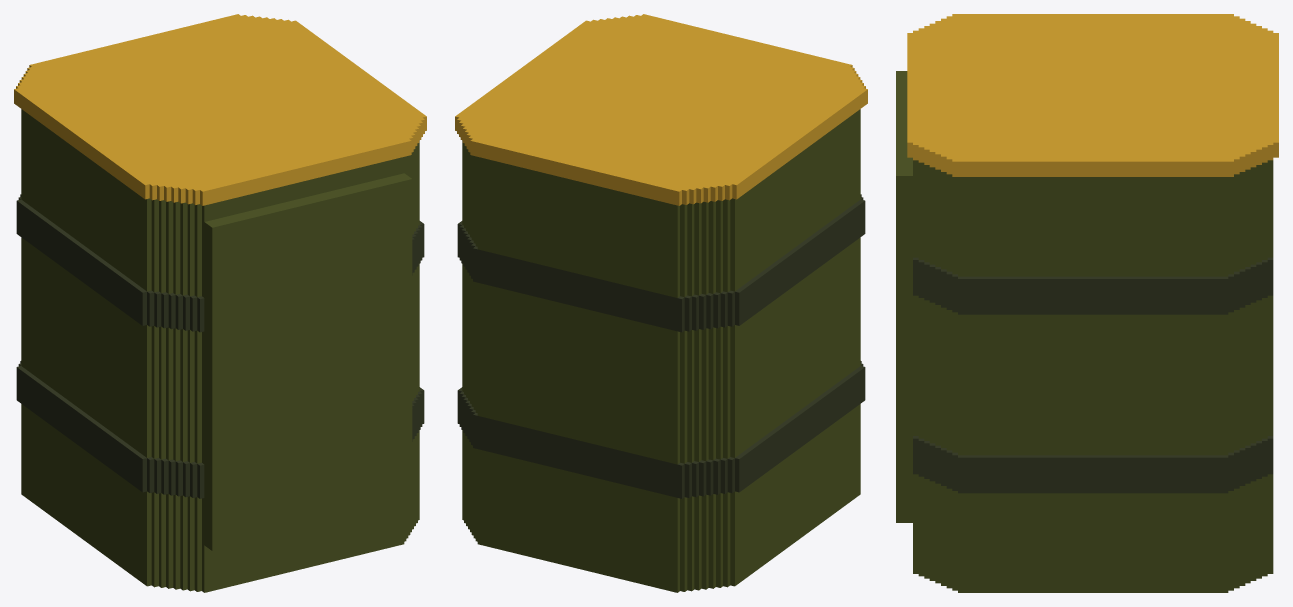
File: legguard_trooper_worn_thigh.glb
3 views of the same model, side by side, from view 1: azimuth 30°, elevation 25°; view 2: azimuth 150°, elevation 25°; view 3: azimuth 270°, elevation 25° (orthographic). The views are drawn at different scales.
Visible parts, largest first — view 1: legguard_trooper_worn_thigh:compound; view 2: legguard_trooper_worn_thigh:compound; view 3: legguard_trooper_worn_thigh:compound.
Boxes of the visible parts, x1,y1,x2,y2 form: legguard_trooper_worn_thigh:compound: [14, 14, 426, 592]; legguard_trooper_worn_thigh:compound: [455, 14, 867, 592]; legguard_trooper_worn_thigh:compound: [896, 14, 1278, 592].
Size of the model in its own units: 0.248 by 0.34 by 0.272.
